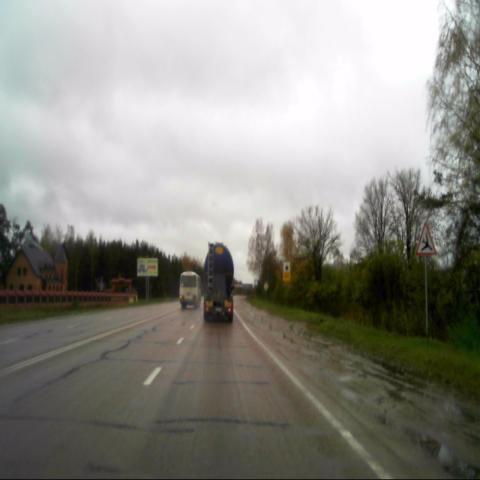1_30: (416, 221, 438, 256)
